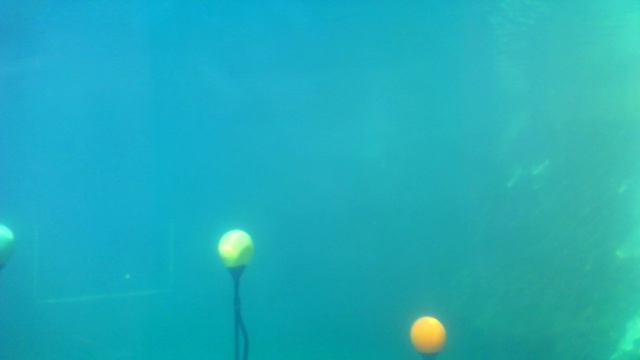channel: (31, 225, 174, 303)
